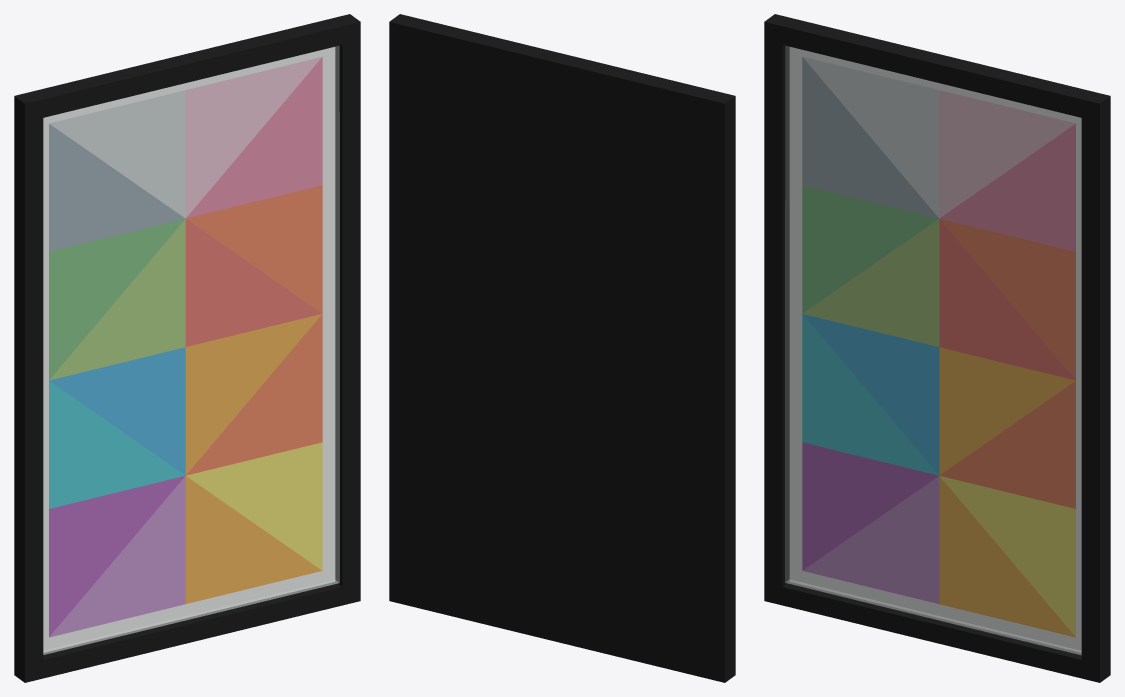
File: painting_big.fbx
3 renders of one model, left to right at view 1: azimuth 30°, elevation 25°; view 2: azimuth 150°, elevation 25°; view 3: azimuth 330°, elevation 25°, orthographic.
Parts seen in each view (by area): view 1: model.002; view 2: model.002; view 3: model.002.
Part boxes in pixels (x1=…): model.002: x1=14, y1=14, x2=360, y2=682; model.002: x1=389, y1=14, x2=735, y2=682; model.002: x1=764, y1=14, x2=1110, y2=682.
Bounding box in the file's own units: 75.91 × 125 × 4.22.
